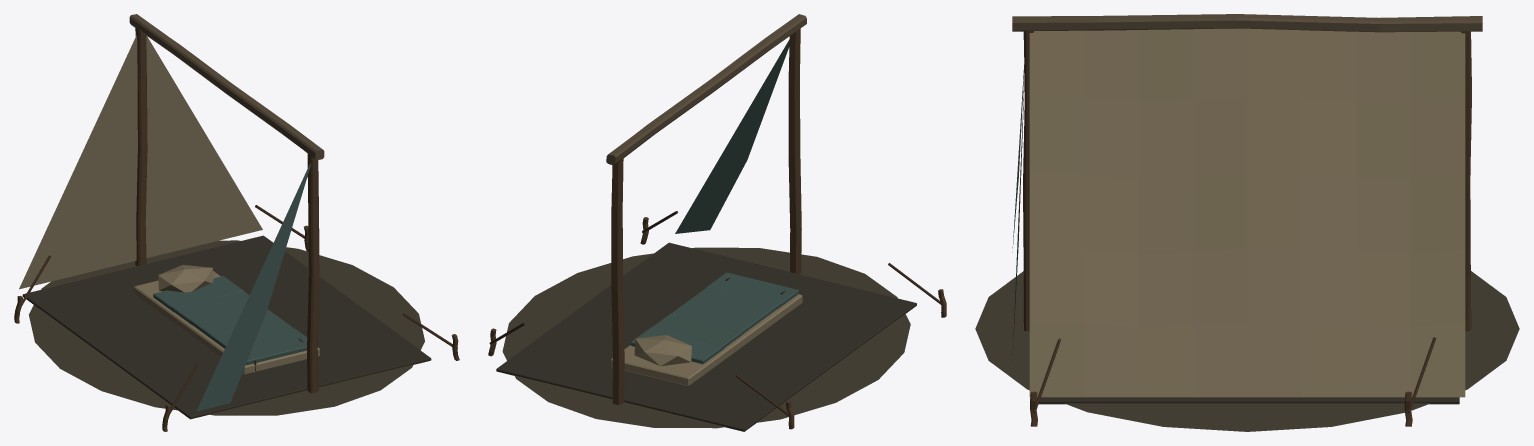
The model's file is scout-tent.glb.
The picture shows the model from 3 angles, left to right: view 1: azimuth 30°, elevation 25°; view 2: azimuth 150°, elevation 25°; view 3: azimuth 270°, elevation 25°; orthographic projection. The views are drawn at different scales.
Parts seen in each view (by area): view 1: Cloth, Stone, Wood; view 2: Cloth, Stone, Wood; view 3: Cloth, Stone, Wood.
Part boxes in pixels (<box>): Cloth: <box>19,35,431,419</box>; Stone: <box>29,240,424,415</box>; Wood: <box>14,14,459,431</box>; Cloth: <box>496,39,916,431</box>; Stone: <box>502,247,910,428</box>; Wood: <box>488,14,946,429</box>; Cloth: <box>1012,28,1465,404</box>; Stone: <box>975,271,1519,431</box>; Wood: <box>1012,14,1482,426</box>.
Bounding box in the file's own units: 2.24 × 1.62 × 2.5.
